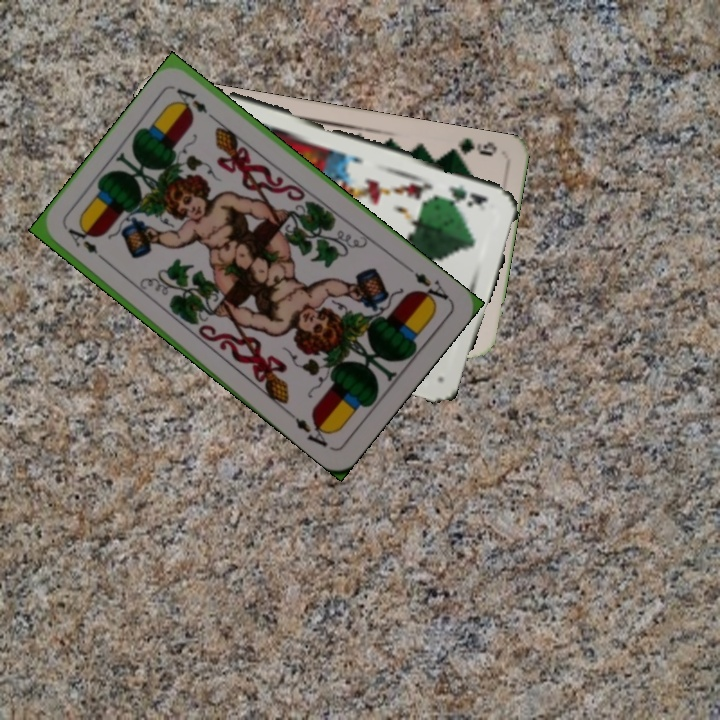EA: (63, 224, 111, 267), (410, 269, 452, 307)
G9: (443, 134, 500, 160)
GK: (436, 180, 491, 210)
